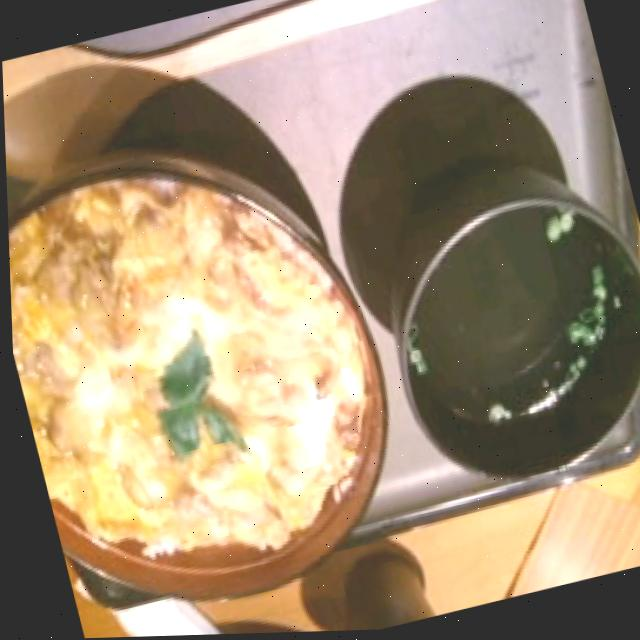米饭主食: (3, 95, 428, 640)
